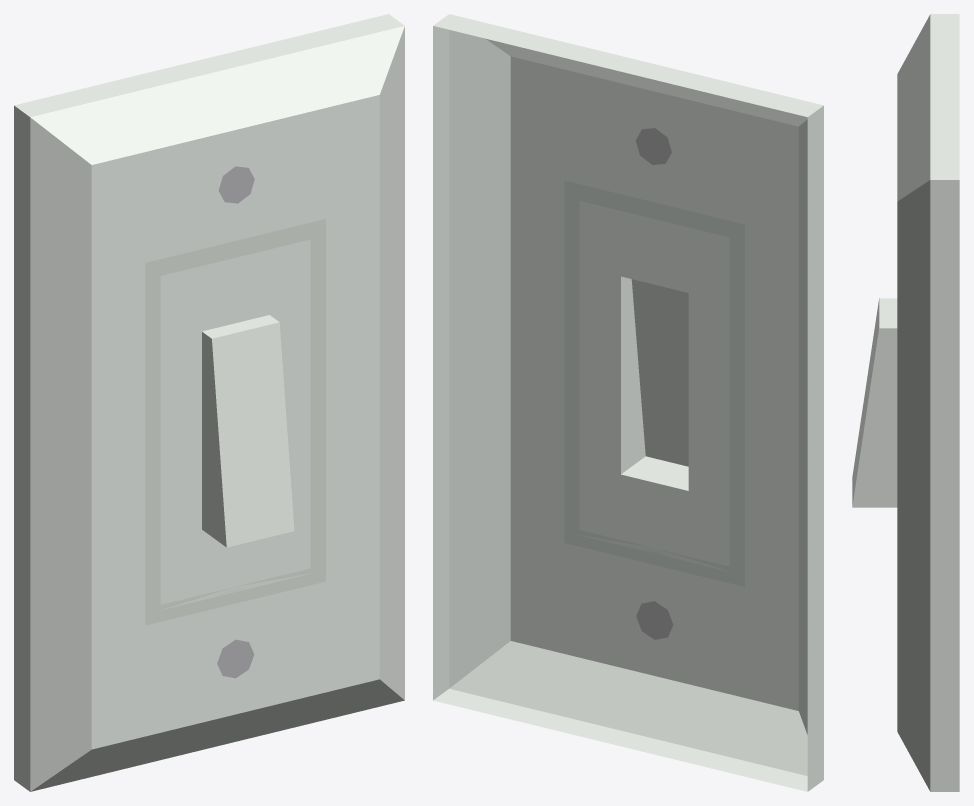
Rendered from SM_Bld_House_LightSwitch_01.obj.
3 renders of one model, left to right at view 1: azimuth 30°, elevation 25°; view 2: azimuth 150°, elevation 25°; view 3: azimuth 270°, elevation 25°, orthographic. The views are drawn at different scales.
Visible parts, largest first — view 1: SM_Bld_House_LightSwitch_01_Mat_SwatchOverlay_PolygonTown_01_Ins; view 2: SM_Bld_House_LightSwitch_01_Mat_SwatchOverlay_PolygonTown_01_Ins; view 3: SM_Bld_House_LightSwitch_01_Mat_SwatchOverlay_PolygonTown_01_Ins.
Boxes of the visible parts, x1,y1,x2,y2 form: SM_Bld_House_LightSwitch_01_Mat_SwatchOverlay_PolygonTown_01_Ins: (14,14,404,791); SM_Bld_House_LightSwitch_01_Mat_SwatchOverlay_PolygonTown_01_Ins: (433,14,823,791); SM_Bld_House_LightSwitch_01_Mat_SwatchOverlay_PolygonTown_01_Ins: (852,14,959,791).
Bounding box in the file's own units: 0.1277 × 0.2197 × 0.035.
Materials: 1 (1 with a texture image).
